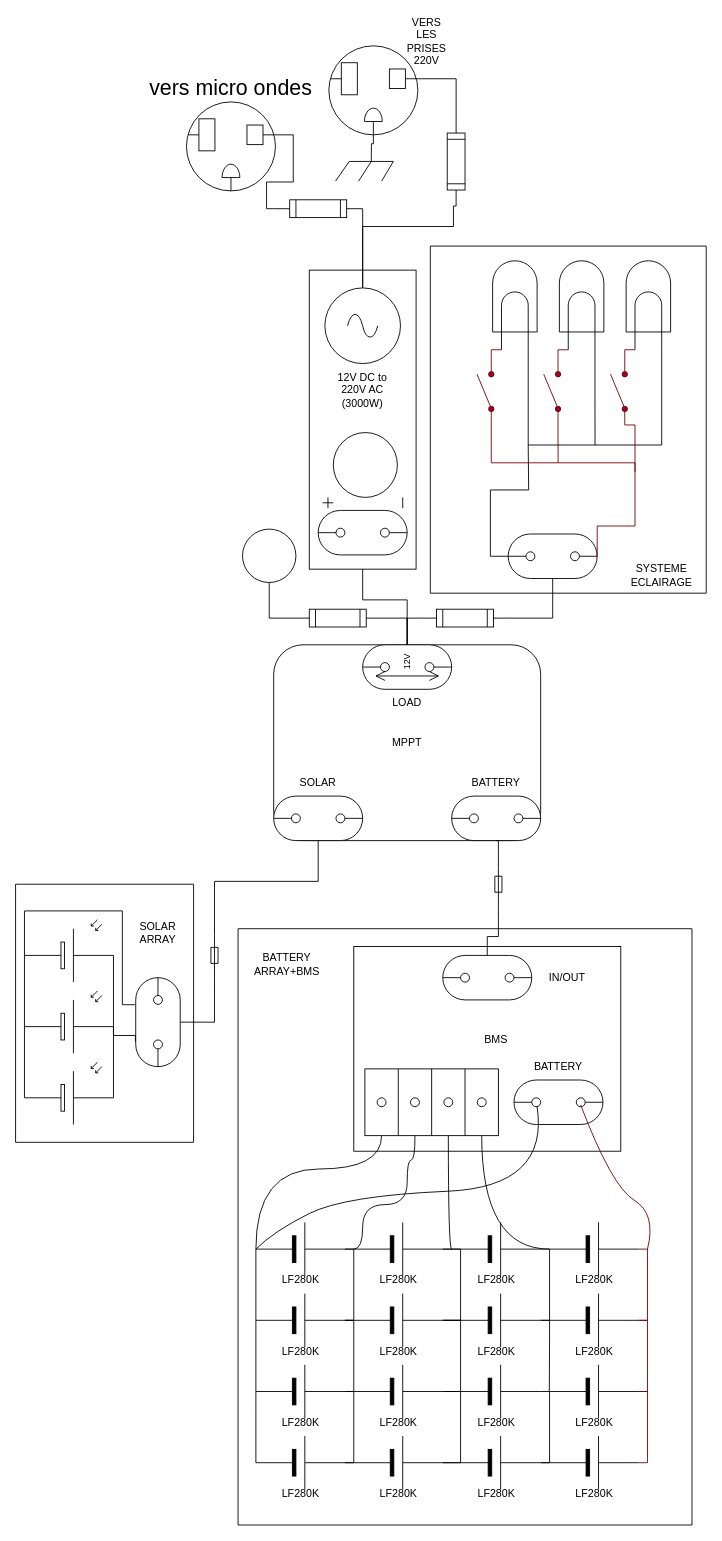
Some shapes in this 722 by 1541 pixel diagram are drawn without their labels. Here are the shapes that lost their labels. From the top down, the centre of each, then its label:
At point (269, 555): "Frigo".
At point (431, 1102): "EQUILIBRE".
